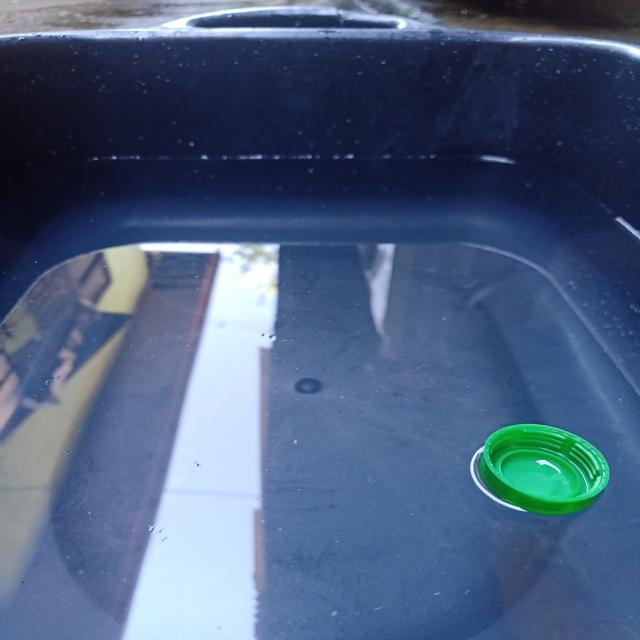Bottle Lid: (450, 405, 640, 541)
